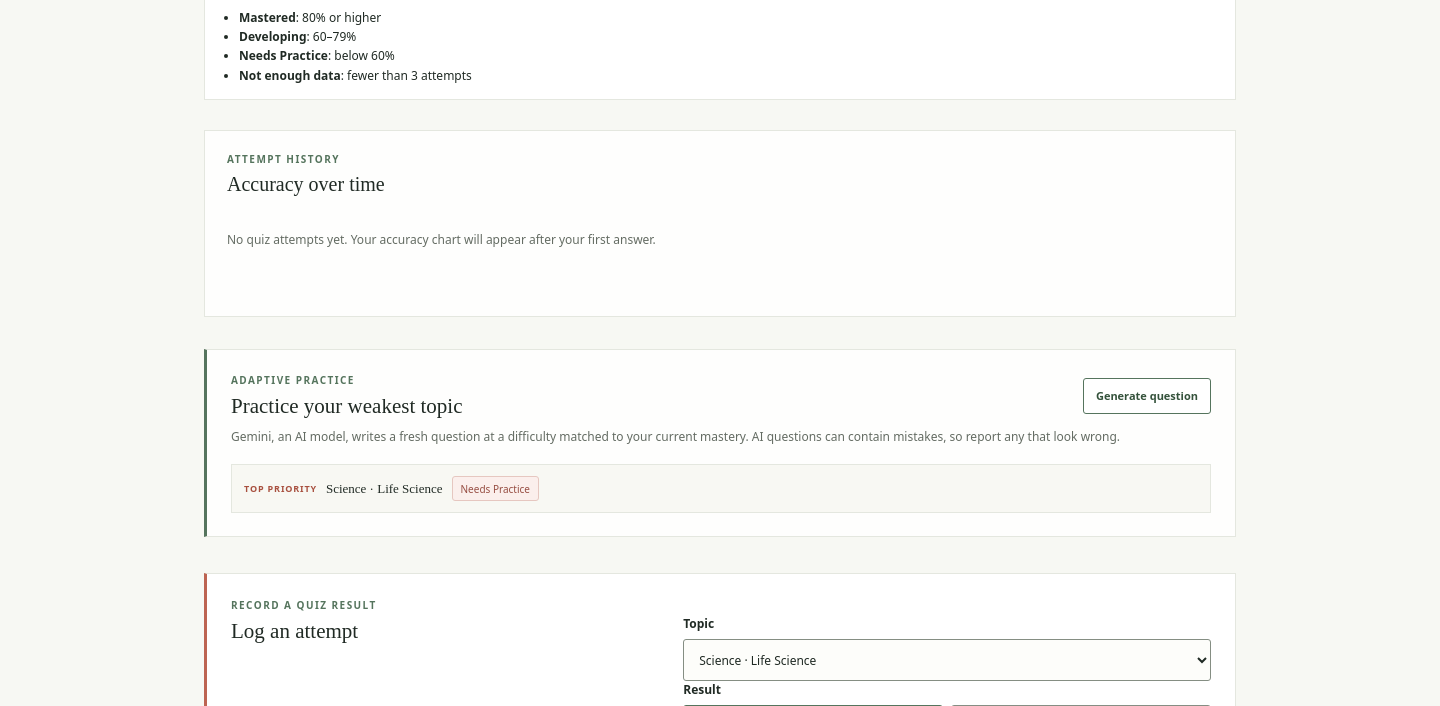
RAI-03: report this question › shows a server validation error in an alert linked to the field
(page scrolled)
Click the button "Generate question".
click(1147, 396)  # box left=1083, top=378, right=1211, bottom=414
(page scrolled)
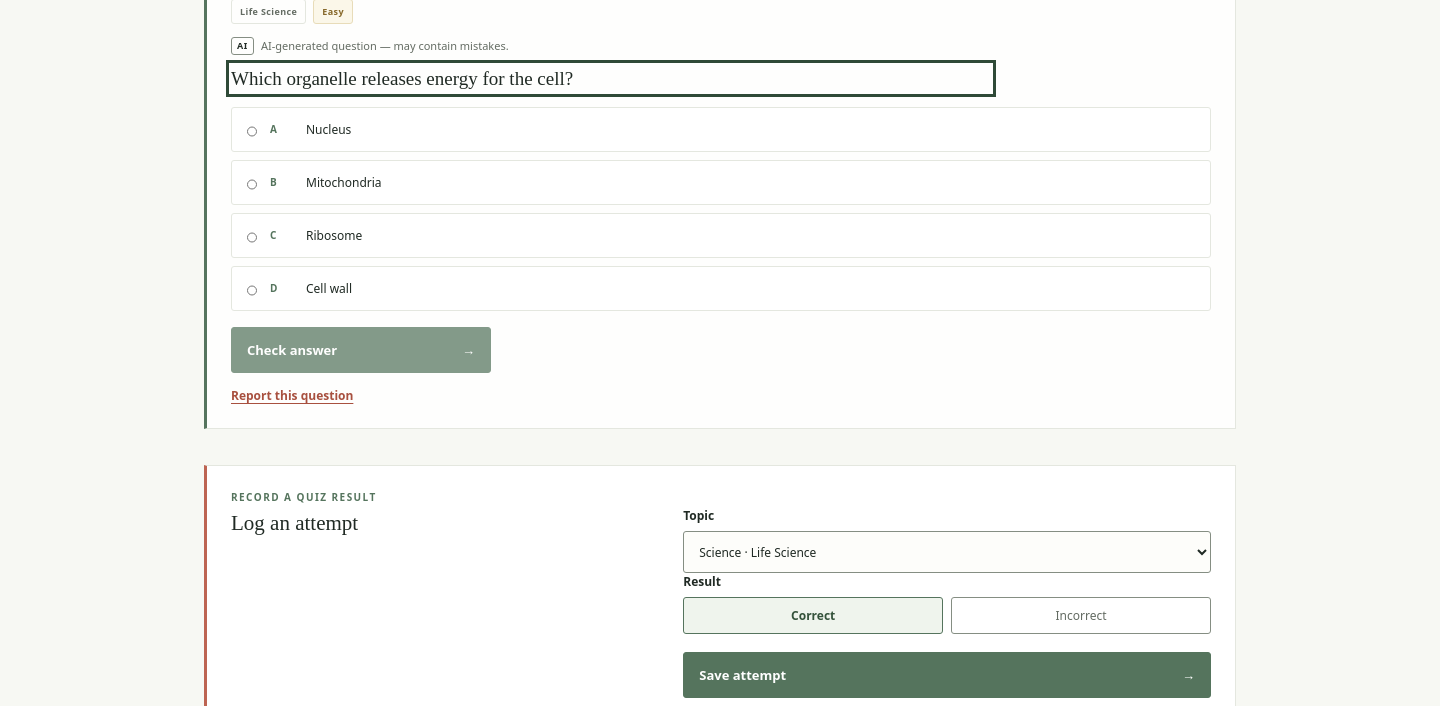
Now the heading "Which organelle releases energy for the cell?" is shown, box left=231, top=68, right=573, bottom=88
Click the button "Report this question".
click(292, 396)  # box left=231, top=387, right=353, bottom=404
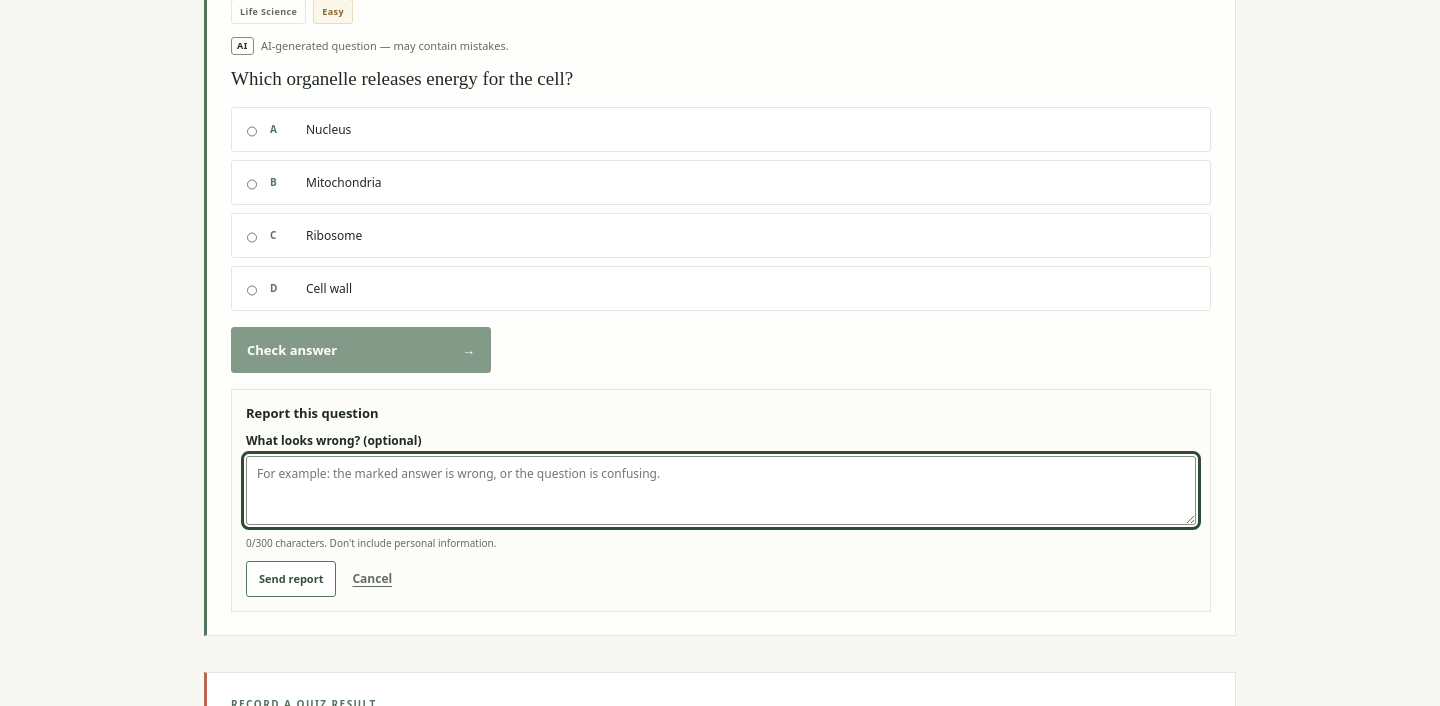
Click the button "Send report".
click(291, 578)  # box left=246, top=560, right=336, bottom=596
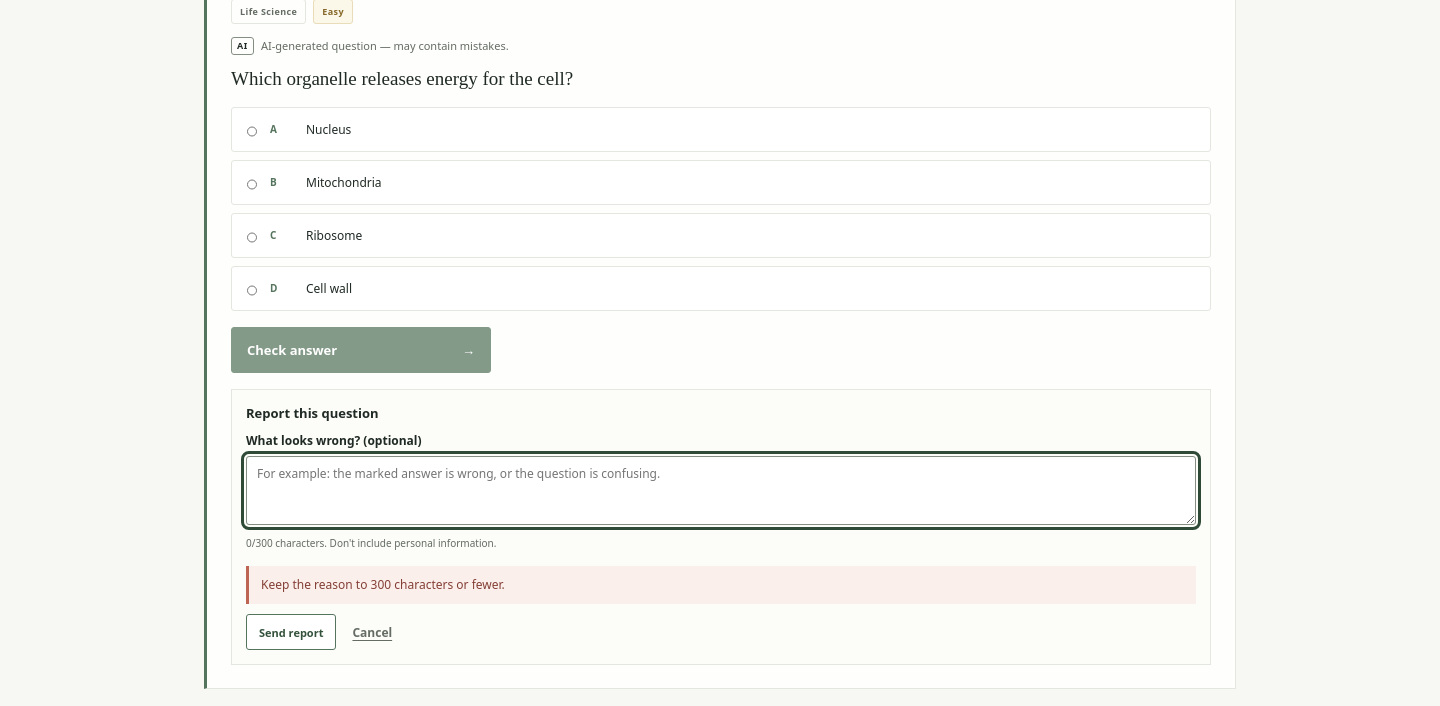
Now the message reads "Keep the reason to 300 characters or fewer.", box left=261, top=576, right=505, bottom=592
